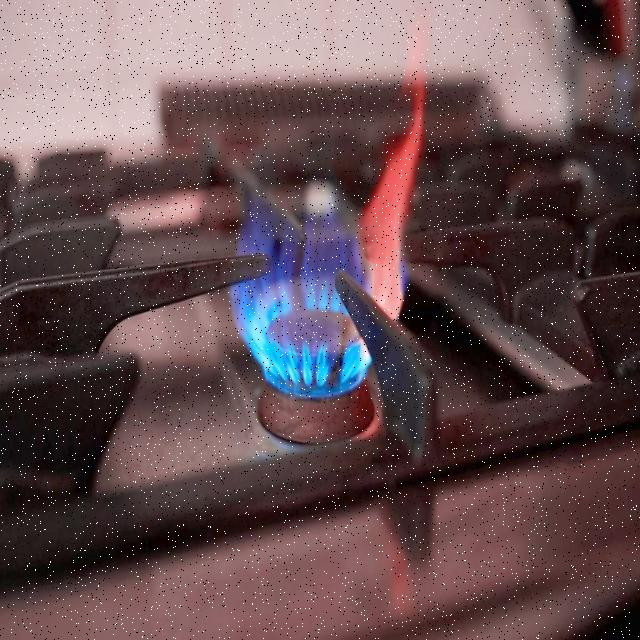fire: (236, 231, 386, 401), (362, 80, 422, 323)
